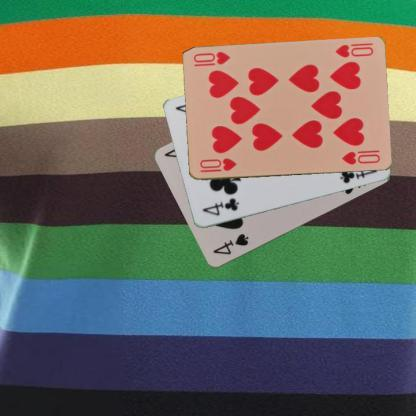10h: (332, 42, 375, 60), (197, 155, 237, 174)
4c: (200, 196, 240, 218)
4s: (210, 231, 250, 257)
